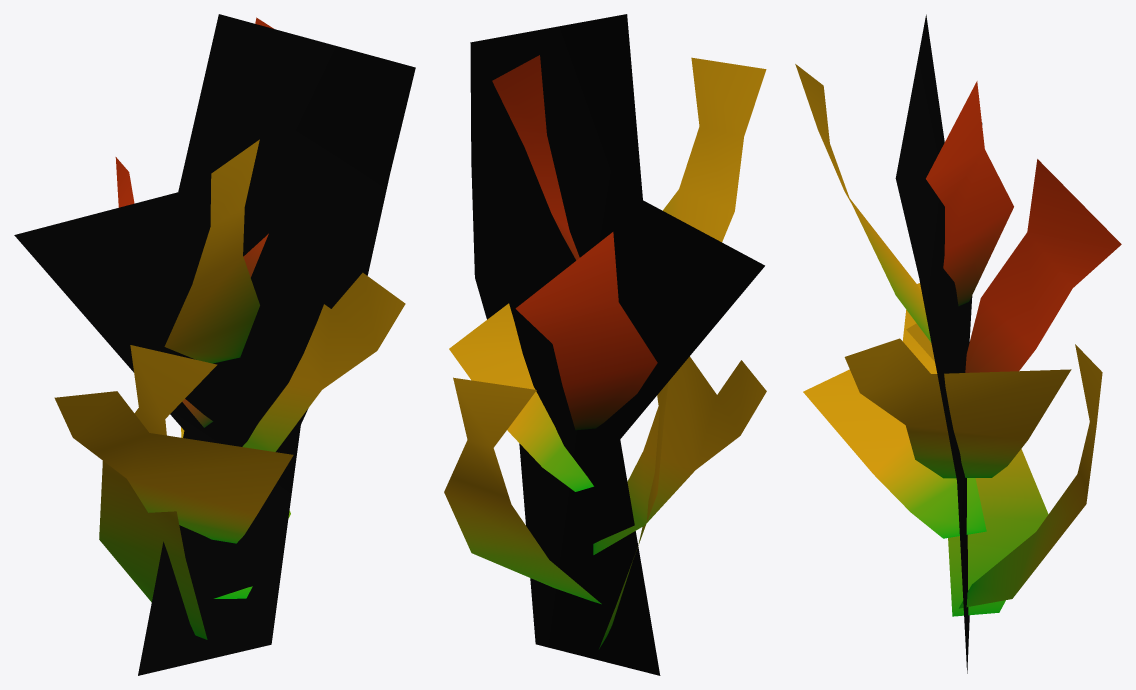
File: Var4Hi31.fbx
The picture shows the model from 3 angles, left to right: view 1: azimuth 30°, elevation 25°; view 2: azimuth 150°, elevation 25°; view 3: azimuth 270°, elevation 25°; orthographic projection. The views are drawn at different scales.
Parts seen in each view (by area): view 1: bend1; view 2: bend1; view 3: bend1.
Part boxes in pixels (bbox=[...]): bend1: bbox=[14, 14, 415, 675]; bend1: bbox=[444, 14, 766, 675]; bend1: bbox=[795, 14, 1121, 673].
Size of the model in its own units: 1.3 by 2.32 by 1.1.
